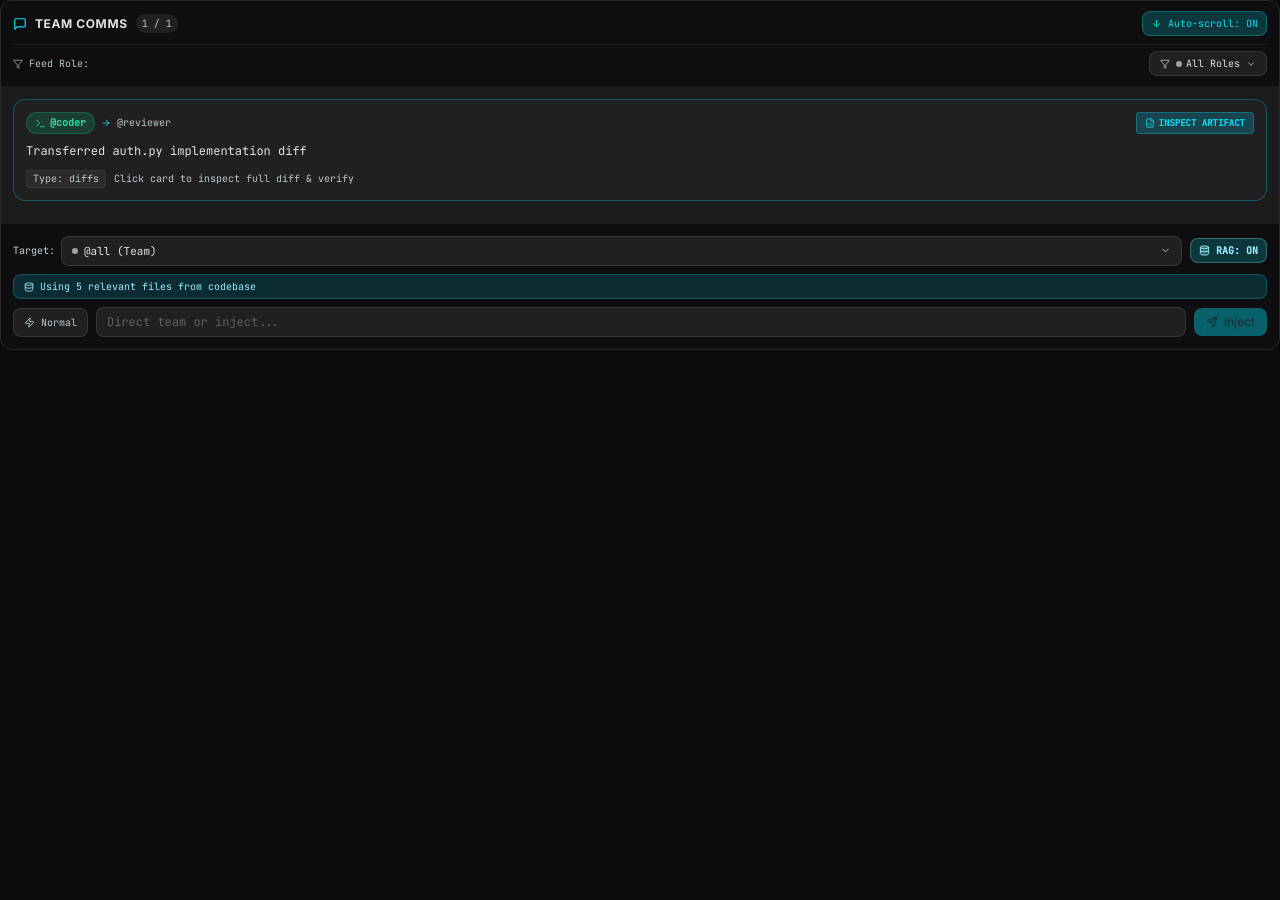
Test case: Phase B4 — Live Team Chat + Operator Injection › test_handoff_click_opens_inspector_modal: opens modal with preview and JSON tabs
Note: Click handoff card
Click the button with test id "handoff-card".
click(60, 123)  # box left=13, top=99, right=1267, bottom=200
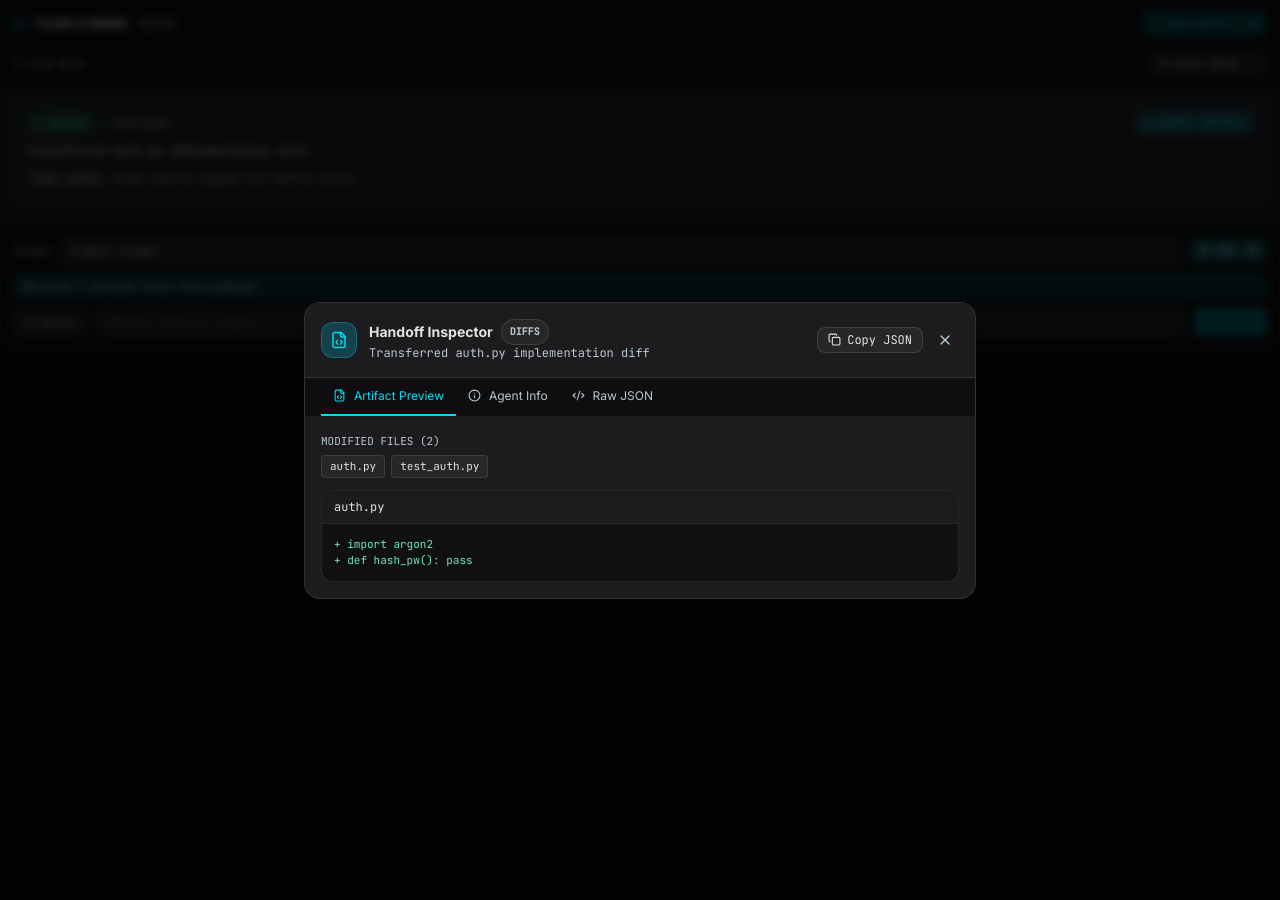
Now the element with test id "handoff-inspector-modal" is shown
Now the heading "Handoff Inspector diffs" is shown, box left=369, top=318, right=549, bottom=344
Now the text "Modified Files (2)" is shown, box left=321, top=434, right=440, bottom=448
Note: Switch to Raw JSON tab
Click the button with test id "tab-json".
click(612, 396)  # box left=560, top=378, right=665, bottom=416
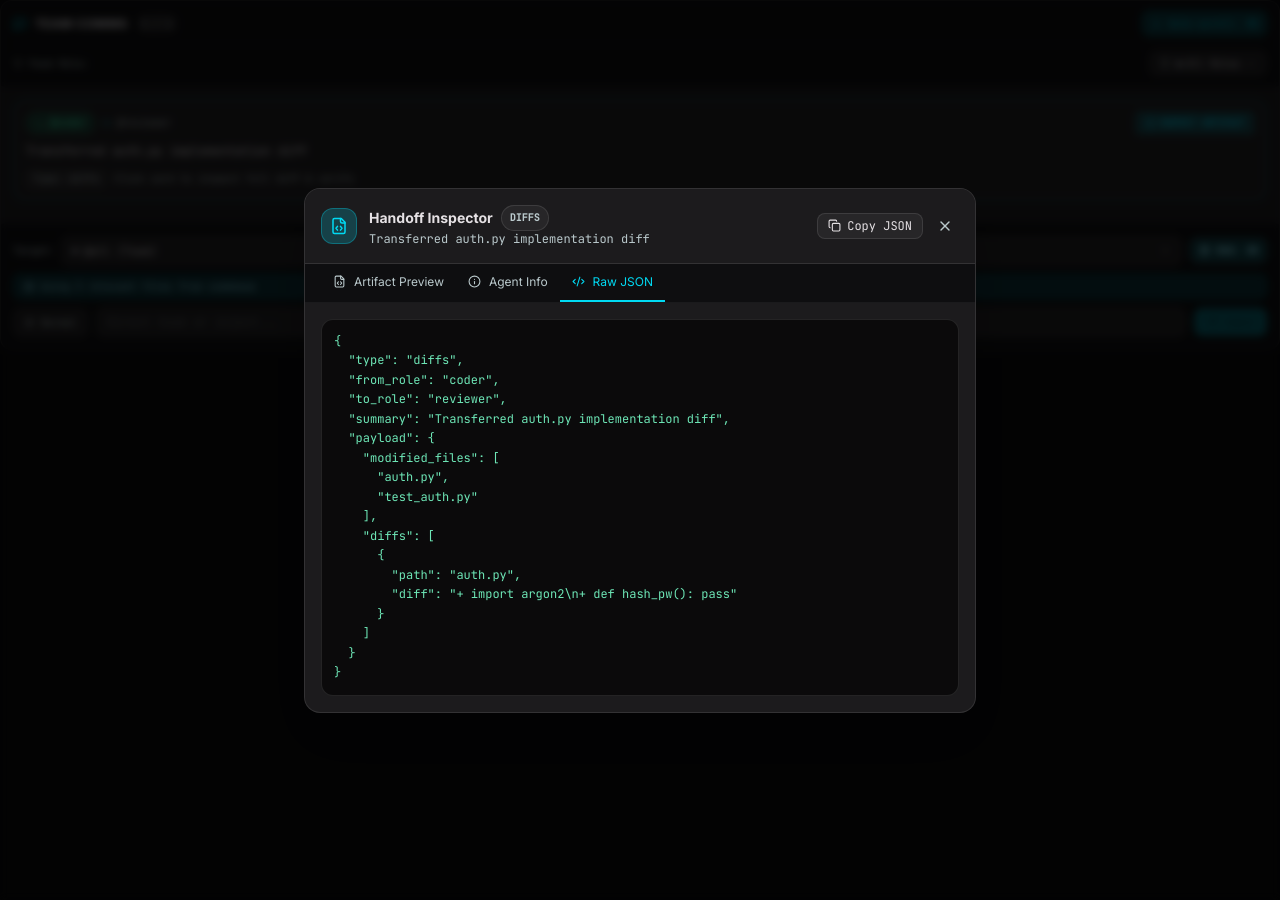
Now the text with test id "handoff-json-view" is shown, box left=321, top=318, right=959, bottom=696
Note: Close modal
Click the button with test id "close-handoff-inspector".
click(945, 226)  # box left=931, top=212, right=959, bottom=240
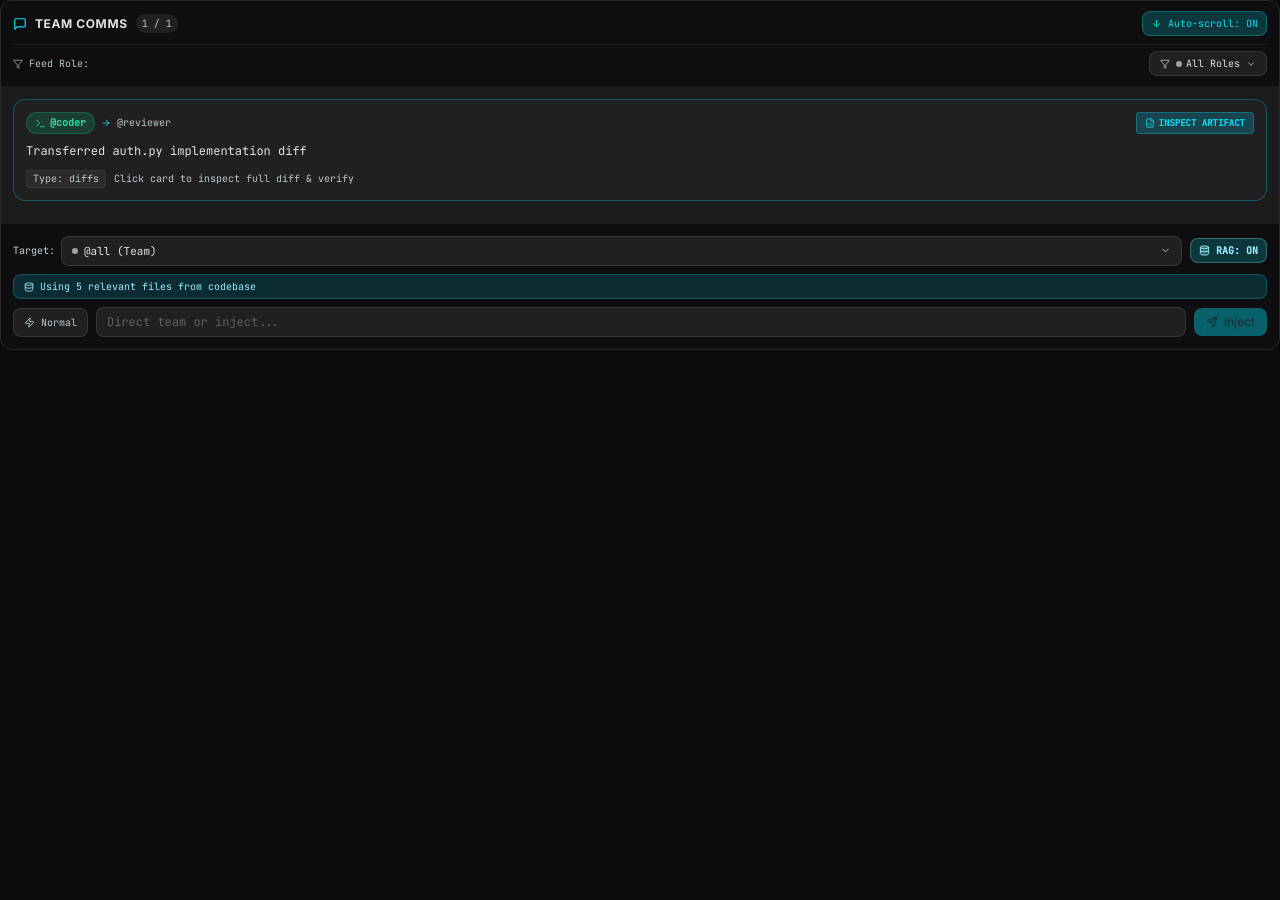
Now the element with test id "handoff-inspector-modal" is gone
